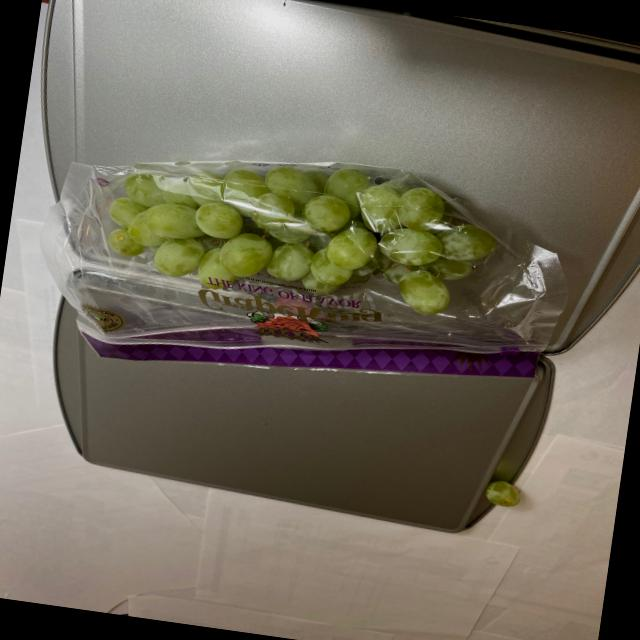grapes: (82, 134, 516, 326)
